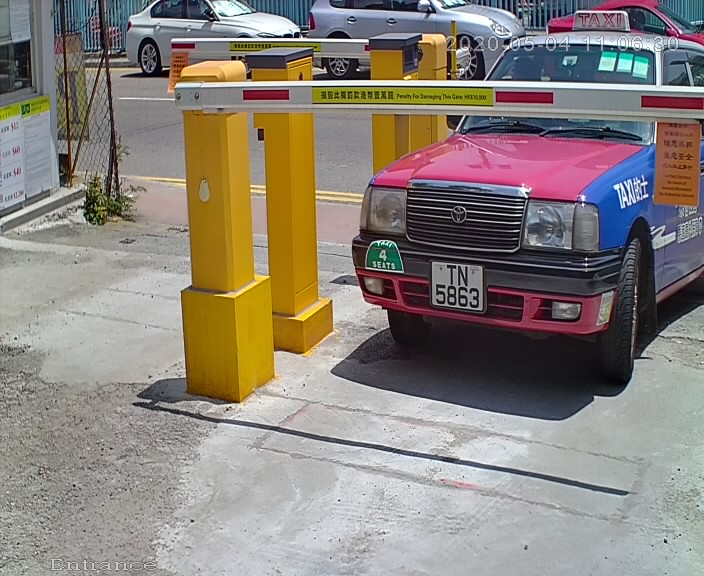taxi: (320, 14, 704, 352)
taxi_mark: (356, 229, 415, 285)
